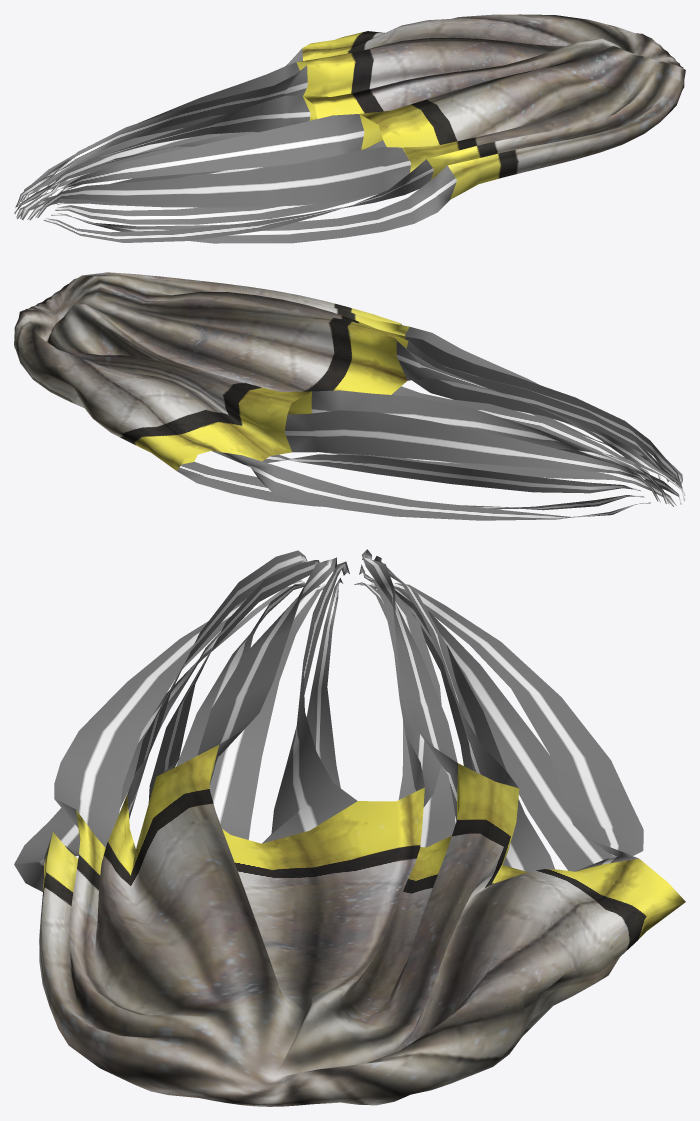
Rendered from parachute2.dae.
The picture shows the model from 3 angles, top to bottom: view 1: azimuth 30°, elevation 25°; view 2: azimuth 150°, elevation 25°; view 3: azimuth 270°, elevation 25°; orthographic projection. The views are drawn at different scales.
Visible parts, largest first — view 1: parachute; view 2: parachute; view 3: parachute.
Part boxes in pixels (x1,y1,x2,y2): parachute: [14, 14, 685, 243]; parachute: [14, 272, 685, 520]; parachute: [14, 549, 685, 1106].
Bounding box in the file's own units: 26.9 × 13.62 × 3.07.
Materials: 1 (1 with a texture image).
